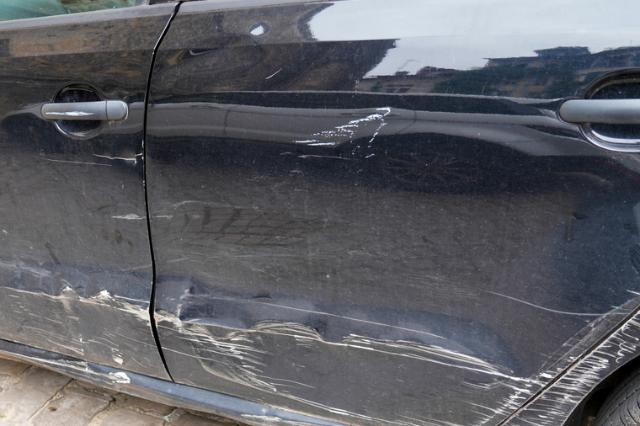Door: (149, 0, 640, 426), (0, 0, 149, 426)
